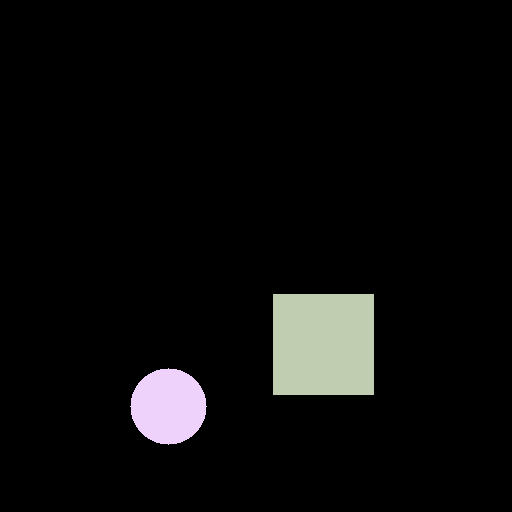circle: (130, 368, 206, 444)
square: (273, 294, 373, 394)
